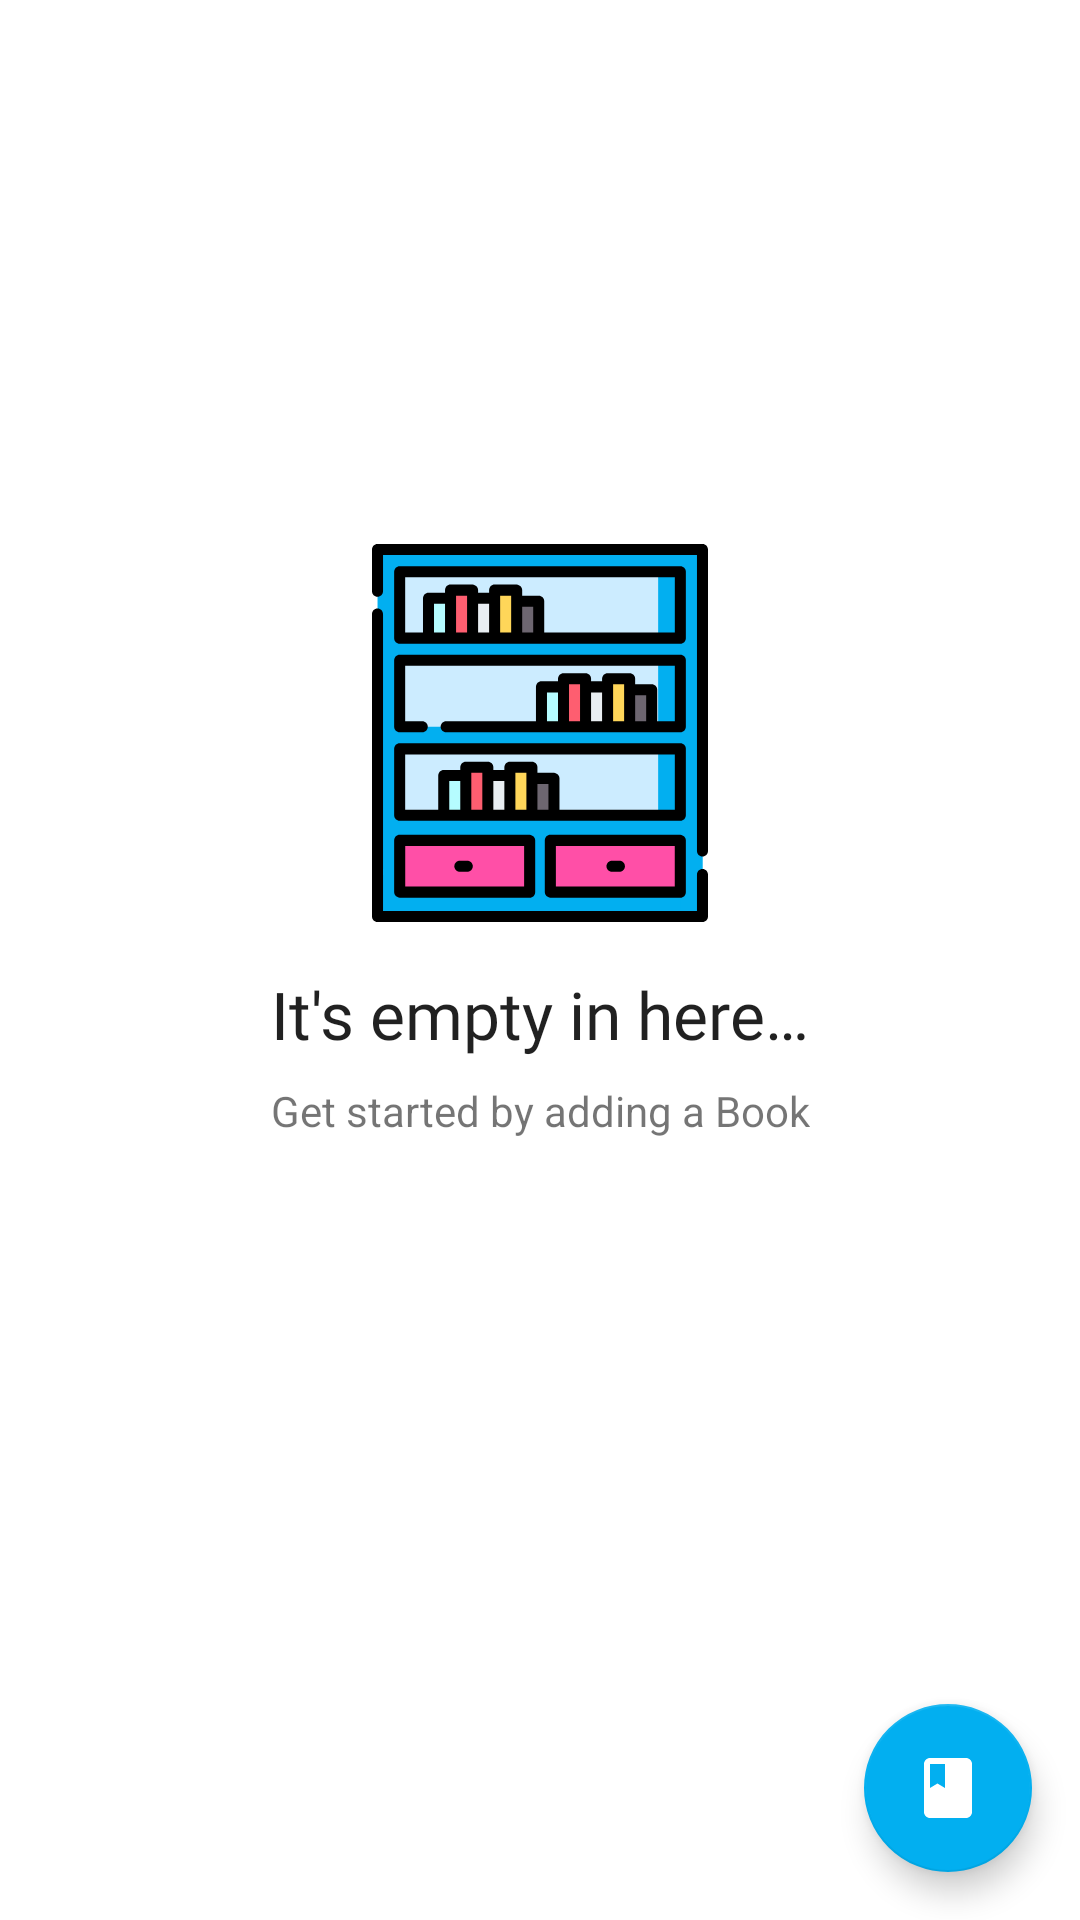

Screen size 1080w x 1920h. Icon name, then its box in pixels as detection(x1, y1, x2, y2):
book: detection(864, 1704, 1032, 1872)
